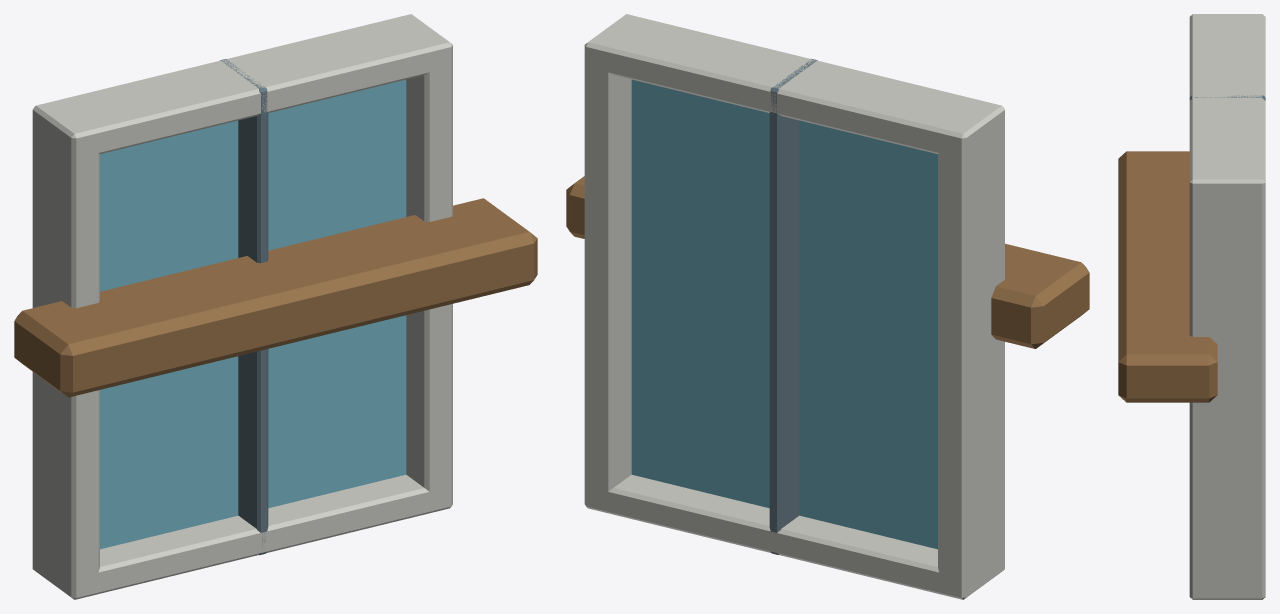
Rendered from architecture-village-window.lod0.glb.
The picture shows the model from 3 angles, left to right: view 1: azimuth 30°, elevation 25°; view 2: azimuth 150°, elevation 25°; view 3: azimuth 270°, elevation 25°; orthographic projection. The views are drawn at different scales.
Parts seen in each view (by area): view 1: architecture-village-window__body; view 2: architecture-village-window__body; view 3: architecture-village-window__body.
Part boxes in pixels (x1,y1,x2,y2): architecture-village-window__body: [14, 14, 537, 599]; architecture-village-window__body: [566, 14, 1089, 599]; architecture-village-window__body: [1118, 14, 1265, 599].
Size of the model in its own units: 1.5 by 1.4 by 0.445.
